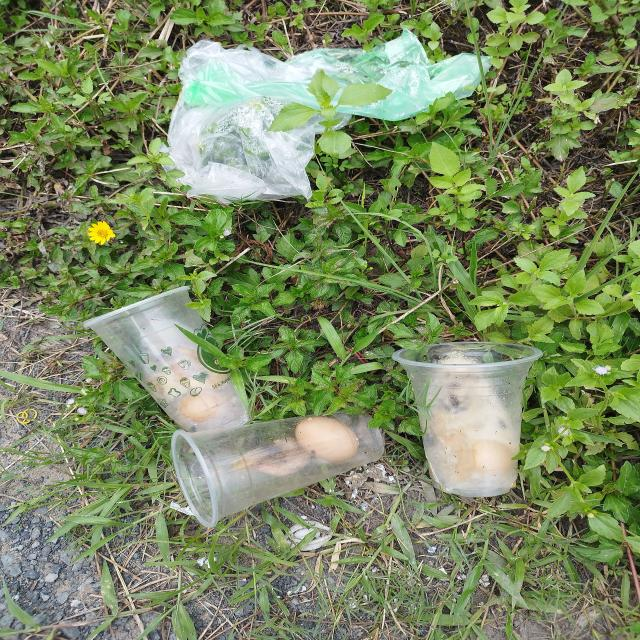bag: (165, 32, 492, 204)
plastic glass: (171, 409, 385, 527), (81, 286, 250, 432), (395, 340, 547, 498)
